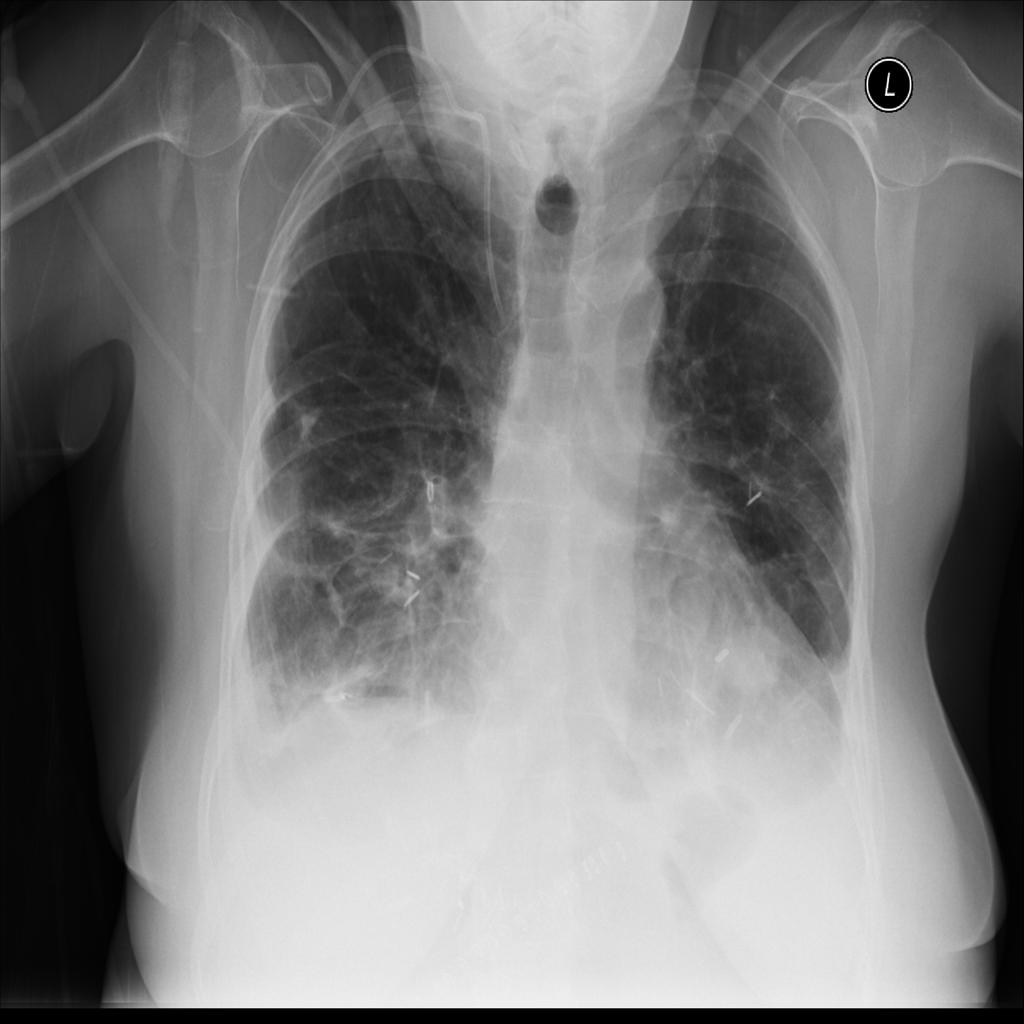nodule: (704, 604, 797, 720), (752, 384, 814, 461)
